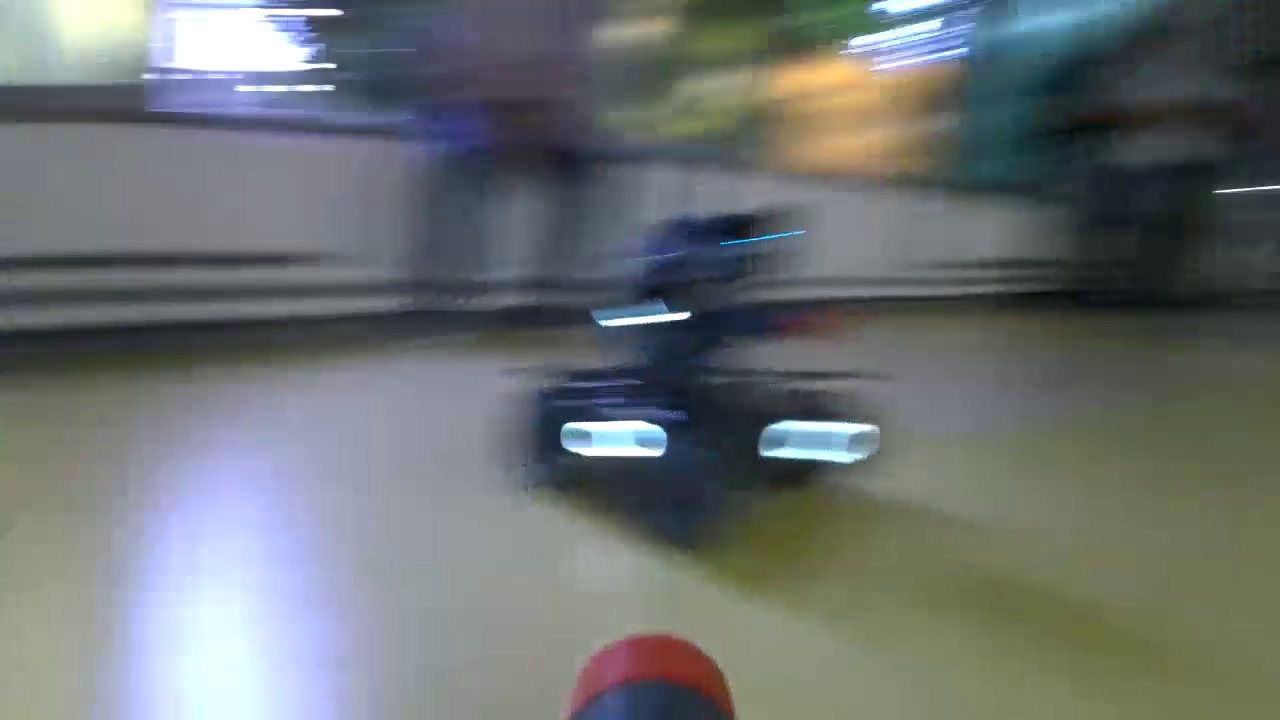robot: (517, 218, 870, 544)
